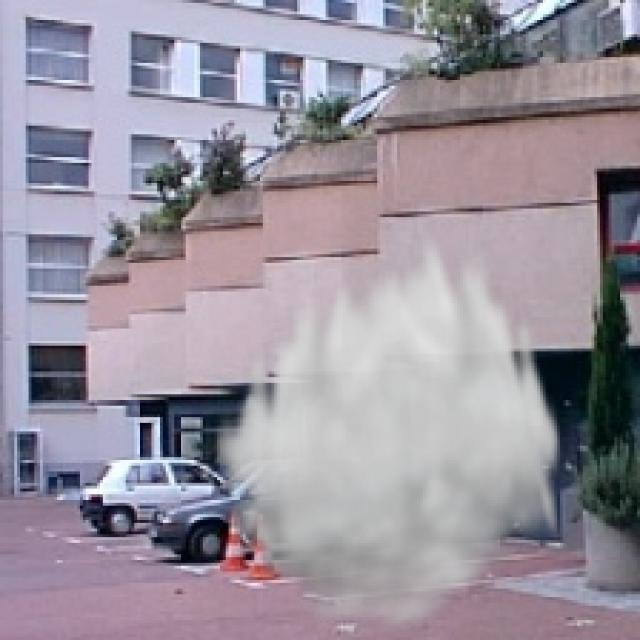smoke: (208, 220, 566, 637)
